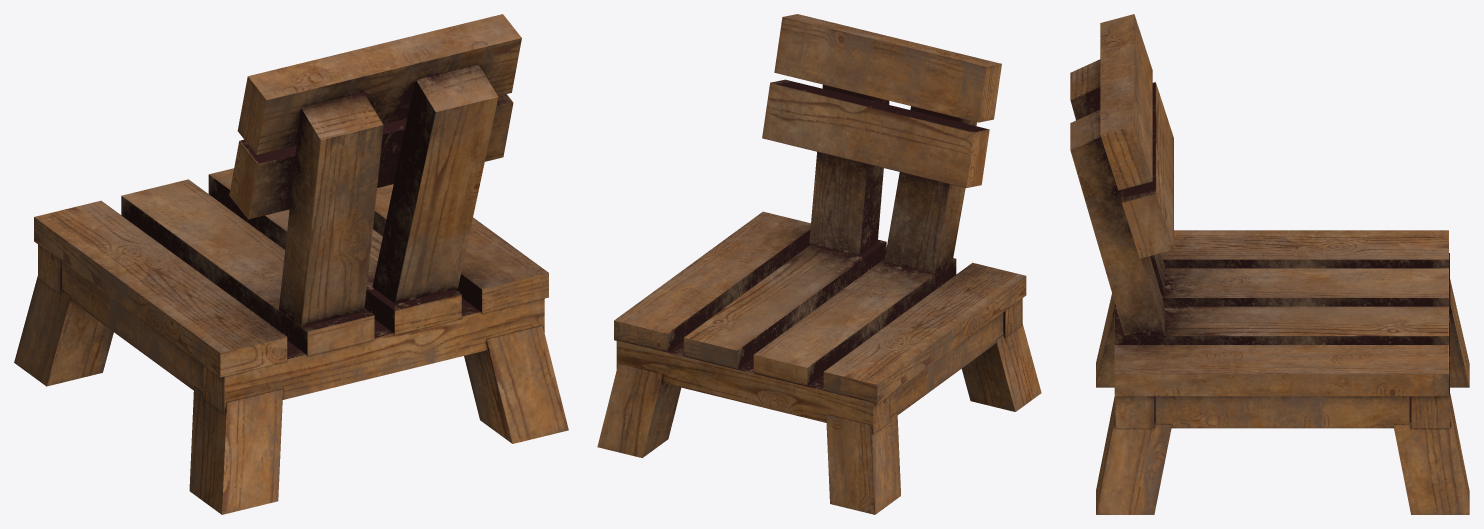
File: chair.fbx
3 views of the same model, side by side, from view 1: azimuth 30°, elevation 25°; view 2: azimuth 150°, elevation 25°; view 3: azimuth 270°, elevation 25° (orthographic). The views are drawn at different scales.
Visible parts, largest first — view 1: Куб.005; view 2: Куб.005; view 3: Куб.005.
Part boxes in pixels (x1,y1,x2,y2): Куб.005: [14, 14, 568, 514]; Куб.005: [597, 14, 1041, 514]; Куб.005: [1070, 14, 1469, 514].
Bounding box in the file's own units: 144 × 163 × 159.
